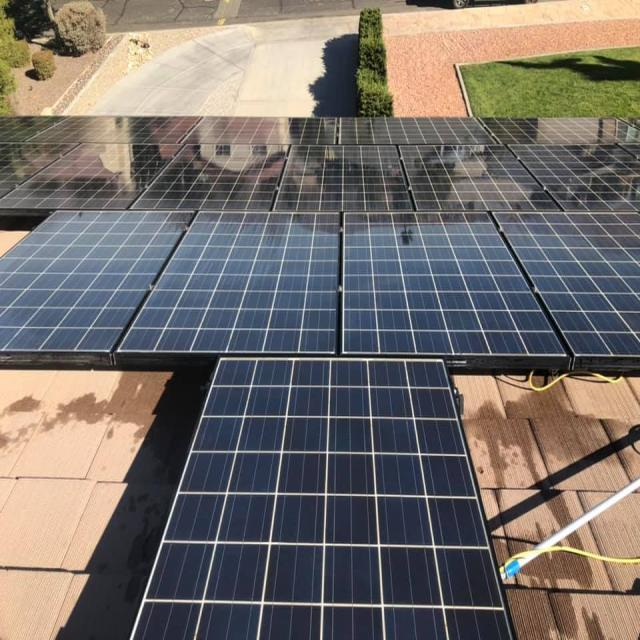clean-solar-panel: (0, 118, 640, 369), (132, 360, 511, 638)
